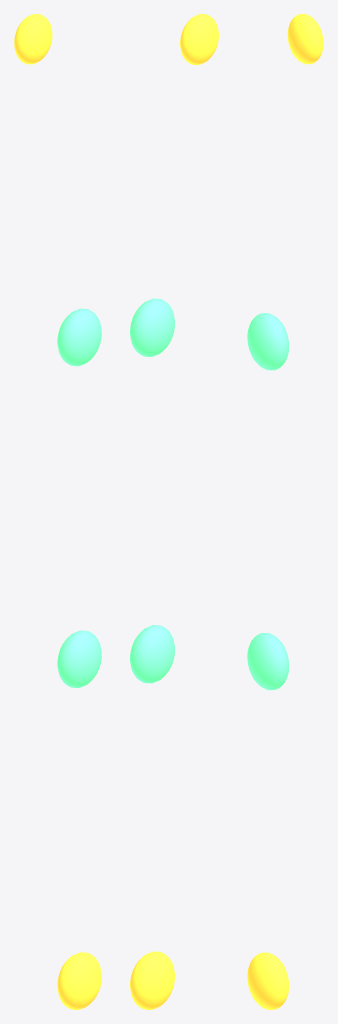
The model's file is lamps.glb.
The picture shows the model from 3 angles, left to right: view 1: azimuth 30°, elevation 25°; view 2: azimuth 210°, elevation 25°; view 3: azimuth 270°, elevation 25°; orthographic projection. The views are drawn at different scales.
Parts seen in each view (by area): view 1: ota_beacon_2, ota_beacon_0, ota_beacon_1, ota_latch_lamp; view 2: ota_beacon_1, ota_beacon_2, ota_beacon_0, ota_latch_lamp; view 3: ota_beacon_0, ota_beacon_2, ota_beacon_1, ota_latch_lamp.
Part boxes in pixels (x1,y1,x2,y2): ota_beacon_2: (57, 952, 101, 1009); ota_beacon_0: (57, 308, 101, 366); ota_beacon_1: (57, 630, 101, 687); ota_latch_lamp: (14, 14, 52, 64); ota_beacon_1: (130, 625, 174, 683); ota_beacon_2: (130, 951, 174, 1009); ota_beacon_0: (130, 298, 174, 356); ota_latch_lamp: (180, 14, 218, 64); ota_beacon_0: (247, 313, 288, 370); ota_beacon_2: (247, 952, 288, 1009); ota_beacon_1: (247, 633, 288, 690); ota_latch_lamp: (287, 14, 323, 64).
Size of the model in its own units: 0.0295 by 0.3857 by 0.0272.
